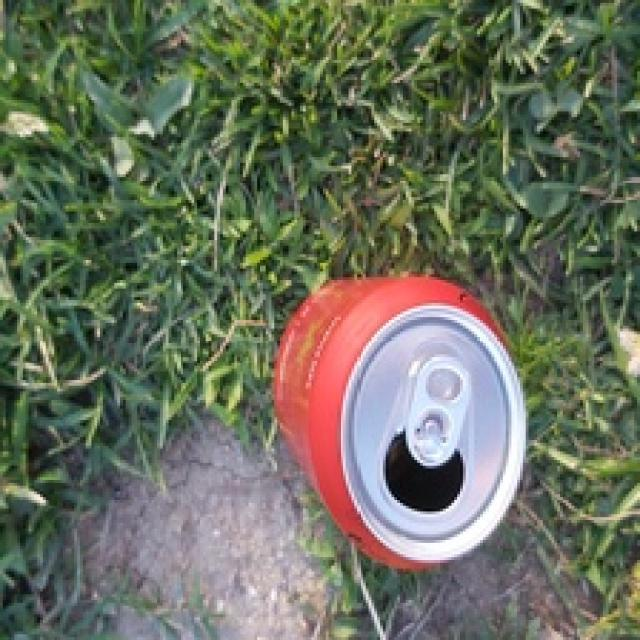recyclable: (268, 270, 526, 568)
